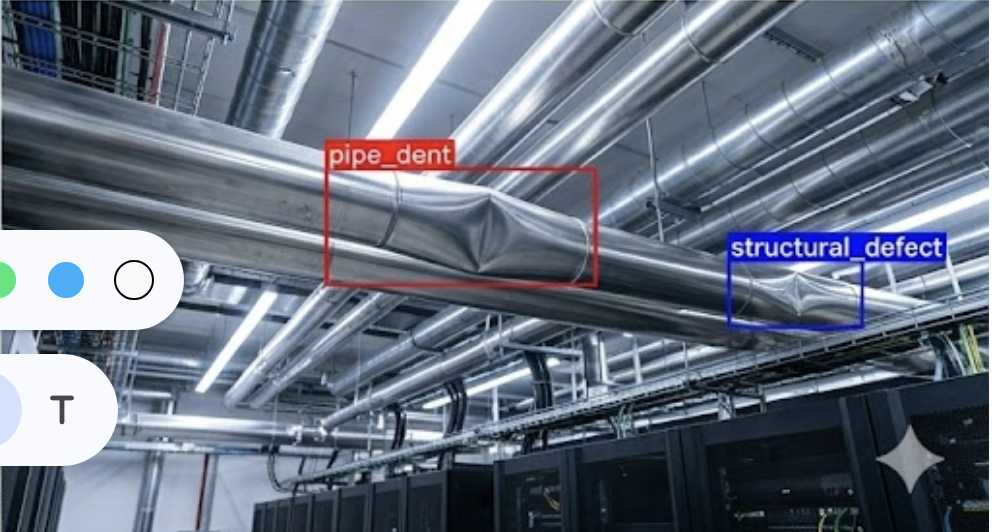Leakage: (418, 178, 551, 284), (748, 256, 854, 327)
